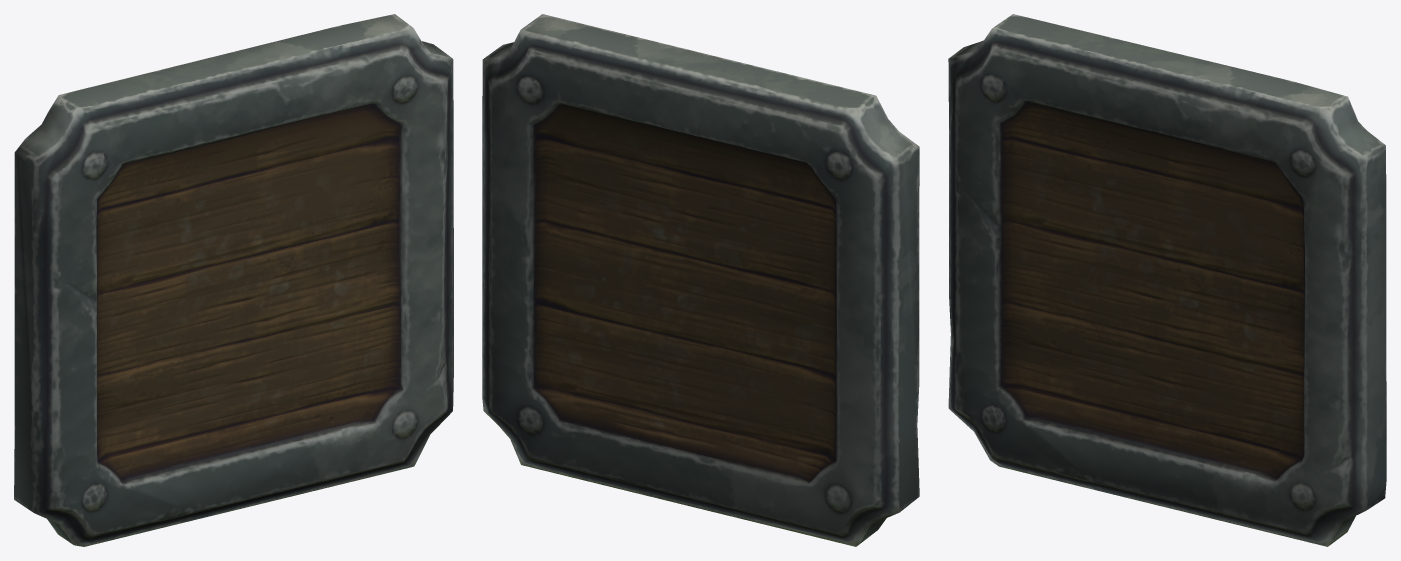
File: S_MVillage_Signs_01_Broken_B.fbx
3 renders of one model, left to right at view 1: azimuth 30°, elevation 25°; view 2: azimuth 150°, elevation 25°; view 3: azimuth 330°, elevation 25°, orthographic.
Visible parts, largest first — view 1: S_MVillage_Signs_01_Broken_B_LOD0; view 2: S_MVillage_Signs_01_Broken_B_LOD0; view 3: S_MVillage_Signs_01_Broken_B_LOD0.
Boxes of the visible parts, x1,y1,x2,y2 form: S_MVillage_Signs_01_Broken_B_LOD0: (14, 14, 453, 546); S_MVillage_Signs_01_Broken_B_LOD0: (482, 14, 919, 546); S_MVillage_Signs_01_Broken_B_LOD0: (948, 14, 1386, 546).
Size of what is drawn, in the model's own units: 108 by 108 by 16.8.
